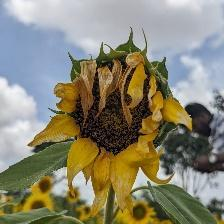sunflower: (46, 42, 190, 206)
